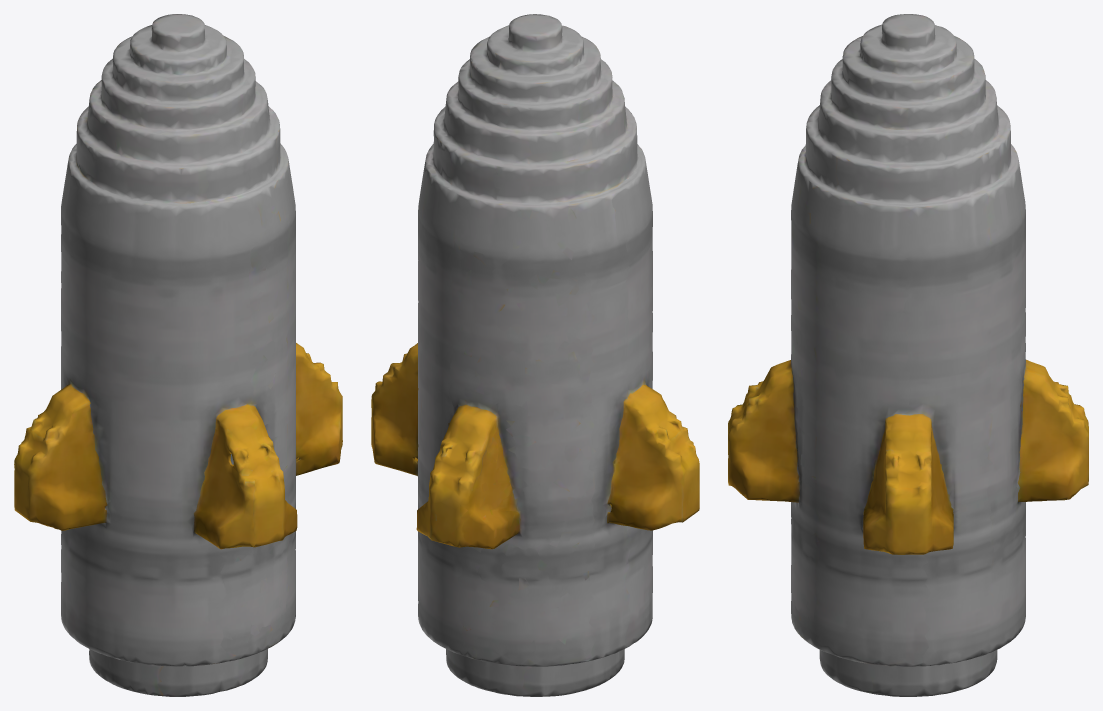
Rendered from ROCKA0.obj.
3 renders of one model, left to right at view 1: azimuth 30°, elevation 25°; view 2: azimuth 150°, elevation 25°; view 3: azimuth 270°, elevation 25°, orthographic.
Size of the model in its own units: 0.5169 by 1 by 0.5163.
Materials: 1 (1 with a texture image).
